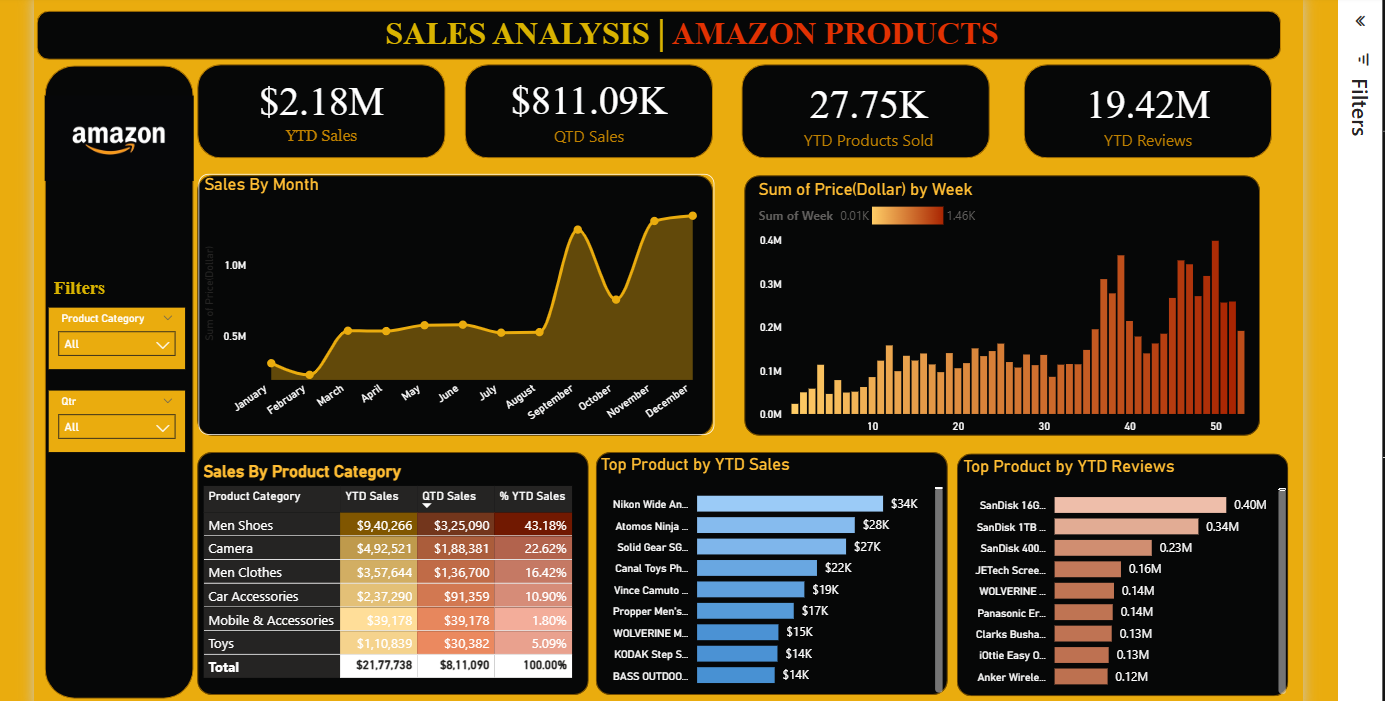

The page's visual inventory and layout, read from the dashboard file:
{"tool":"powerbi","page":{"name":"Page 1","canvas":[1280,720],"ordinal":0},"visuals":[{"type":"shape","box":[2.8,15.1,1255.2,49.5],"z":0},{"type":"card","fields":{"Values":["Amazon_Data.YTD Sales"]},"box":[165.2,64.7,250.5,96.3],"z":0,"group":"g2"},{"type":"shape","box":[435,68.8,250.5,95],"z":0,"group":"g1"},{"type":"card","fields":{"Values":["Amazon_Data.YTD Sales"]},"box":[435,64.7,250.5,96.3],"z":1000,"group":"g2"},{"type":"shape","box":[714.4,68.8,250.5,95],"z":1000,"group":"g1"},{"type":"shape","box":[11,70.2,150,638.6],"z":1000},{"type":"shape","box":[165.2,68.8,250.5,95],"z":2000},{"type":"group","id":"g1","title":"Group 1","box":[435,68.8,814.8,95],"z":2000,"group":"g2"},{"type":"shape","box":[999.3,68.8,250.5,95],"z":2000,"group":"g1"},{"type":"group","id":"g2","title":"Group 2","box":[165.2,64.7,1084.6,100.5],"z":3000},{"type":"card","fields":{"Values":["Amazon_Data.QTD Sales"]},"box":[435,64.7,250.5,96.3],"z":3000,"group":"g2"},{"type":"card","fields":{"Values":["Amazon_Data.YTD Products Sold"]},"box":[717.1,68.8,250.5,96.3],"z":4000,"group":"g2"},{"type":"shape","box":[165.2,180.3,520.3,262.9],"z":4000},{"type":"card","fields":{"Values":["Amazon_Data.YTD Reviews"]},"box":[999.3,68.8,250.5,96.3],"z":5000,"group":"g2"},{"type":"areaChart","title":"Sales By Month","fields":{"Category":["Date Tabel.Month Name"],"Y":["Sum(Amazon_Data.Price(Dollar))"]},"box":[165.7,180,520,262.9],"z":5000},{"type":"shape","box":[717.1,180.3,520.3,262.9],"z":6000},{"type":"columnChart","fields":{"Category":["Date Tabel.Week"],"Y":["Sum(Amazon_Data.Price(Dollar))"]},"box":[725.3,184.4,520.3,262.9],"z":7000},{"type":"shape","box":[165.2,459.7,395,245],"z":8000},{"type":"pivotTable","title":"Sales By Product Category","fields":{"Rows":["Amazon_Data.Product Category"],"Values":["Amazon_Data.YTD Sales1","Amazon_Data.QTD Sales","Amazon_Data.YTD Sales"]},"box":[165.7,470,390,235.7],"z":9000},{"type":"shape","box":[567.1,459.7,355.1,245],"z":10000},{"type":"shape","box":[930.4,461.1,334.5,245],"z":11000},{"type":"clusteredBarChart","title":"Top Product by YTD Sales","fields":{"Category":["Amazon_Data.Product Description"],"Y":["Amazon_Data.YTD Sales"]},"box":[567.1,462.5,355.1,245],"z":12000},{"type":"clusteredBarChart","title":"Top Product by YTD Reviews","fields":{"Category":["Amazon_Data.Product Description"],"Y":["Amazon_Data.YTD Reviews"]},"box":[931.8,463.8,335.8,245],"z":13000},{"type":"slicer","fields":{"Values":["Amazon_Data.Product Category"]},"box":[15.1,314.8,137.6,61.9],"z":14000},{"type":"slicer","fields":{"Values":["Date Tabel.Qtr"]},"box":[15.1,397.4,137.6,61.9],"z":15000},{"type":"textbox","box":[15.1,279,82.6,48.2],"z":16000},{"type":"textbox","box":[349.6,9.6,715.7,60.6],"z":17000},{"type":"image","box":[11,93.6,150,100.5],"z":18000}]}

Visuals, with their boxes in screenshot pixels (x1, y1, x2, y2):
shape: left=32, top=4, right=1279, bottom=53
card - Amazon_Data.YTD Sales: left=193, top=53, right=442, bottom=149
shape: left=461, top=58, right=710, bottom=152
card - Amazon_Data.YTD Sales: left=461, top=53, right=710, bottom=149
shape: left=739, top=58, right=988, bottom=152
shape: left=40, top=59, right=189, bottom=693
shape: left=193, top=58, right=442, bottom=152
"Group 1" group: left=461, top=58, right=1271, bottom=152
shape: left=1022, top=58, right=1271, bottom=152
"Group 2" group: left=193, top=53, right=1271, bottom=153
card - Amazon_Data.QTD Sales: left=461, top=53, right=710, bottom=149
card - Amazon_Data.YTD Products Sold: left=741, top=58, right=990, bottom=153
shape: left=193, top=168, right=710, bottom=430
card - Amazon_Data.YTD Reviews: left=1022, top=58, right=1271, bottom=153
"Sales By Month" areaChart: left=193, top=168, right=710, bottom=429
shape: left=741, top=168, right=1258, bottom=430
columnChart - Date Tabel.Week x Sum(Amazon_Data.Price(Dollar)): left=750, top=172, right=1266, bottom=434
shape: left=193, top=446, right=585, bottom=689
"Sales By Product Category" pivotTable: left=193, top=456, right=581, bottom=690
shape: left=592, top=446, right=945, bottom=689
shape: left=953, top=447, right=1286, bottom=691
"Top Product by YTD Sales" clusteredBarChart: left=592, top=449, right=945, bottom=692
"Top Product by YTD Reviews" clusteredBarChart: left=955, top=450, right=1288, bottom=693
slicer - Amazon_Data.Product Category: left=44, top=302, right=181, bottom=363
slicer - Date Tabel.Qtr: left=44, top=384, right=181, bottom=446
textbox: left=44, top=266, right=126, bottom=314
textbox: left=376, top=0, right=1087, bottom=59
image: left=40, top=82, right=189, bottom=182
